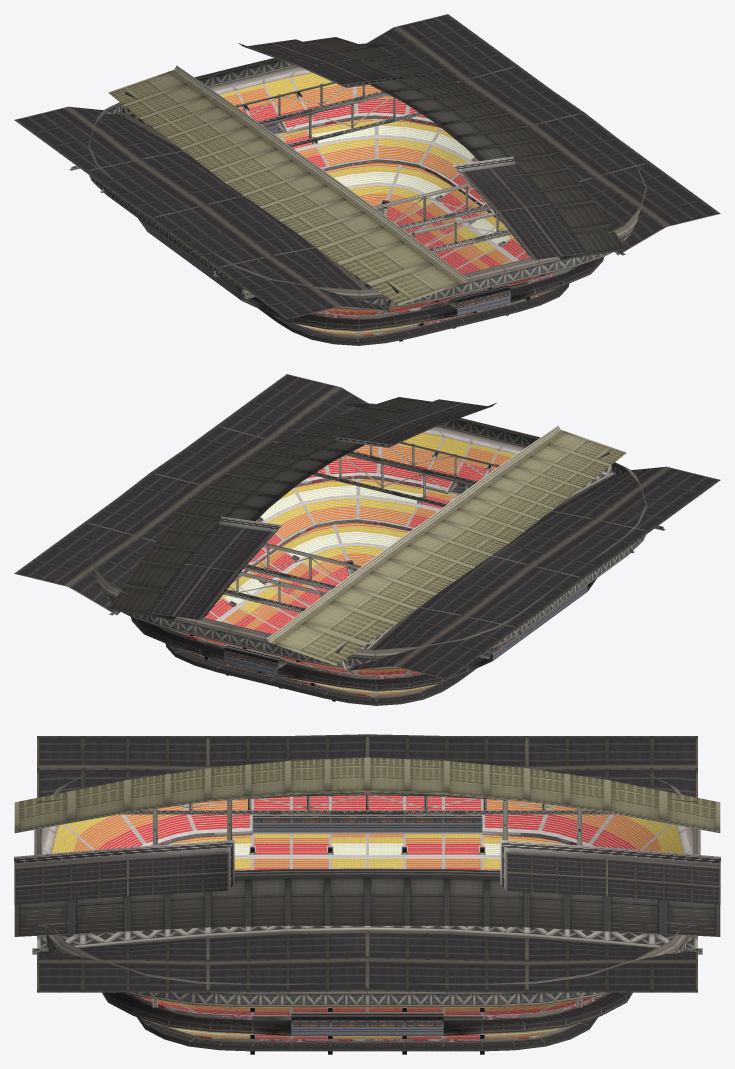
Rendered from st_070_stadium.fbx.
3 renders of one model, top to bottom at view 1: azimuth 30°, elevation 25°; view 2: azimuth 150°, elevation 25°; view 3: azimuth 270°, elevation 25°, orthographic. The views are drawn at different scales.
Parts seen in each view (by area): view 1: st_070_Sstadium; view 2: st_070_Sstadium; view 3: st_070_Sstadium.
Part boxes in pixels (x1,y1,x2,y2): st_070_Sstadium: (14,14,720,345); st_070_Sstadium: (14,374,720,705); st_070_Sstadium: (14,734,720,1054).
Size of the model in its own units: 277 by 88.29 by 323.
